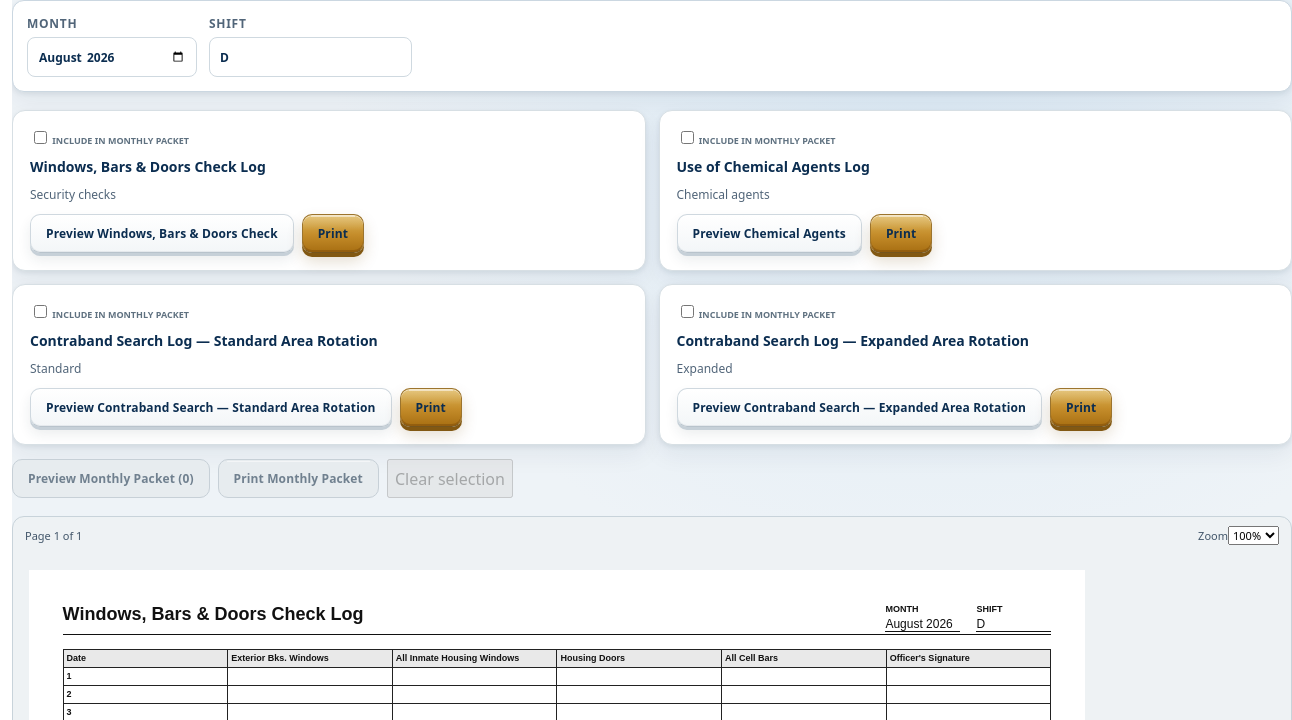
Test: MonthlyPaperworkTab › offers exactly the supplied monthly forms and keeps selections while previewing
The image size is (1292, 720).
Expected: the number of elements with test id "monthly-template-card" is 4, [12,110,646,271]; [658,110,1291,271]; [12,284,646,445]; [658,284,1291,445]
Expected: the number of headings "Windows, Bars & Doors Check Log" is 2, [30,157,266,176]; [63,604,364,625]
Click the checkbox named "windows, bars".
click(40, 138)  # box [34,131,47,144]
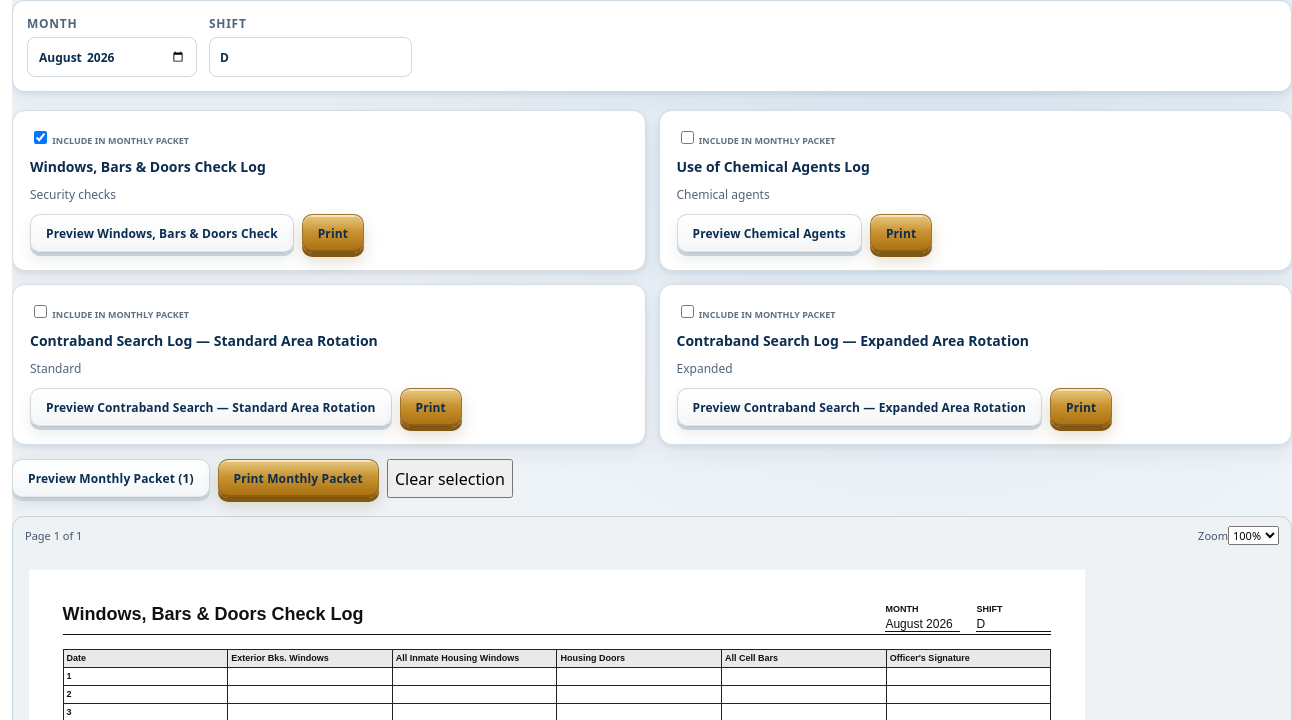
Click the button "Preview Chemical Agents".
click(769, 234)  # box [676,214,862,253]
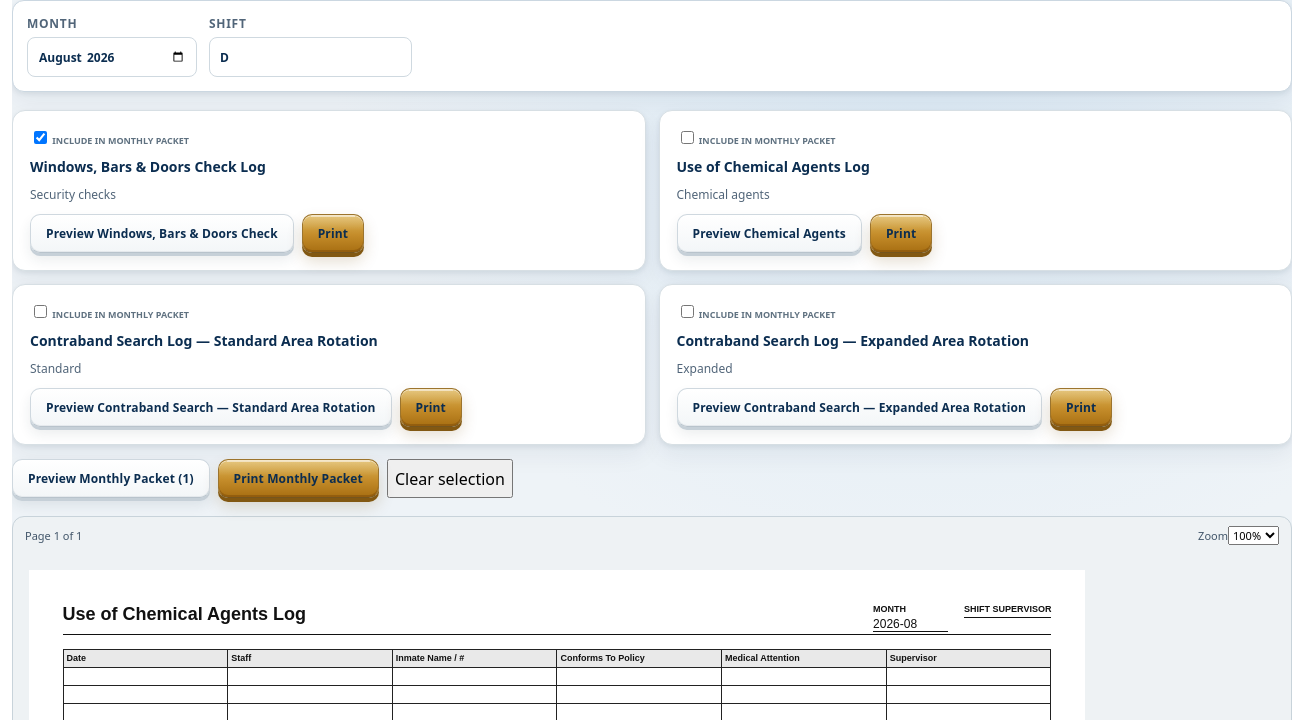
Expected: the button "Preview Monthly Packet (1)" is enabled, [12,459,210,498]
Expected: the button "Clear selection" is enabled, [387,459,513,498]
Expected: the number of headings "Use of Chemical Agents Log" is 2, [676,157,870,176]; [63,604,306,625]
